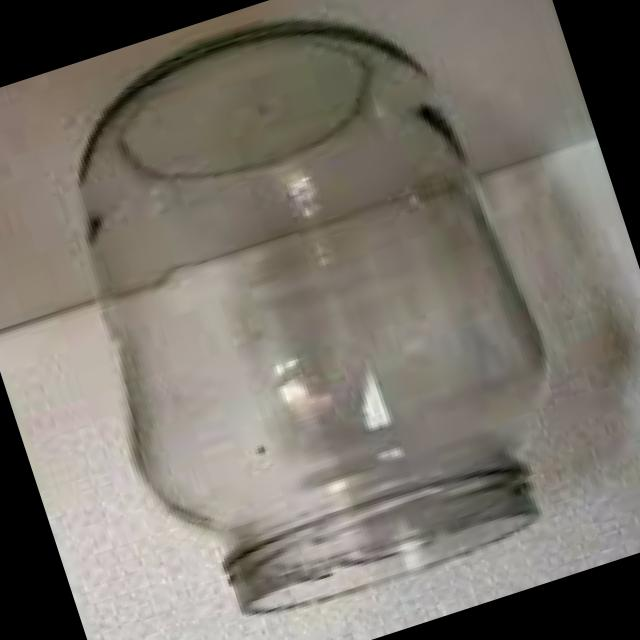ToplesKaca: (18, 0, 609, 640)
